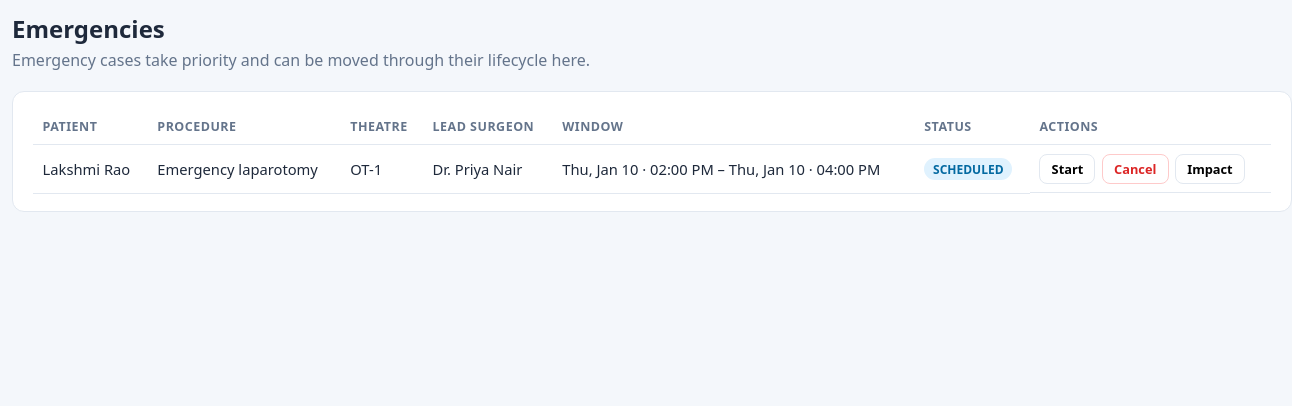
EmergenciesPage › shows when an emergency affects nothing
Click the button "Impact".
click(1210, 169)  # box [1175,154,1245,184]
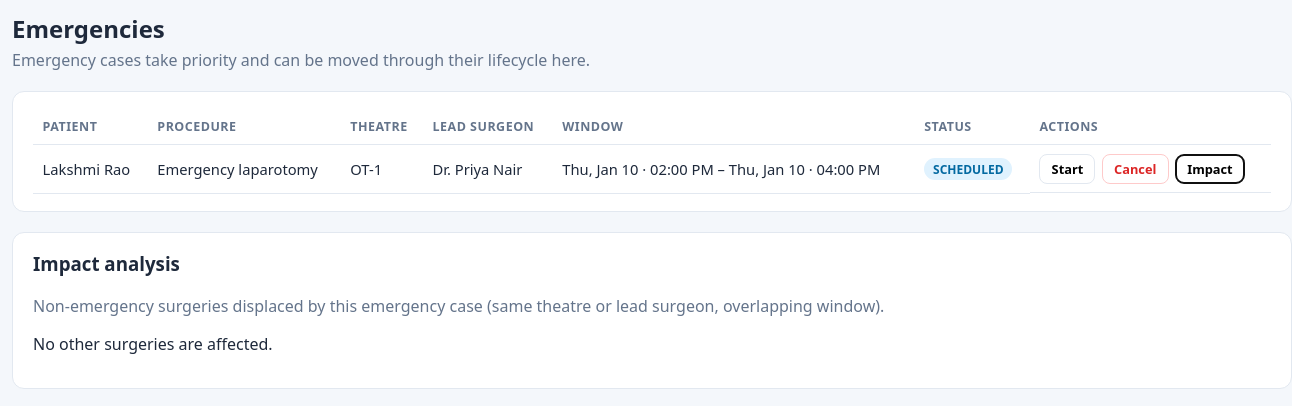
Check: the text "No other surgeries are affected." is shown, box [33,333,273,355]
